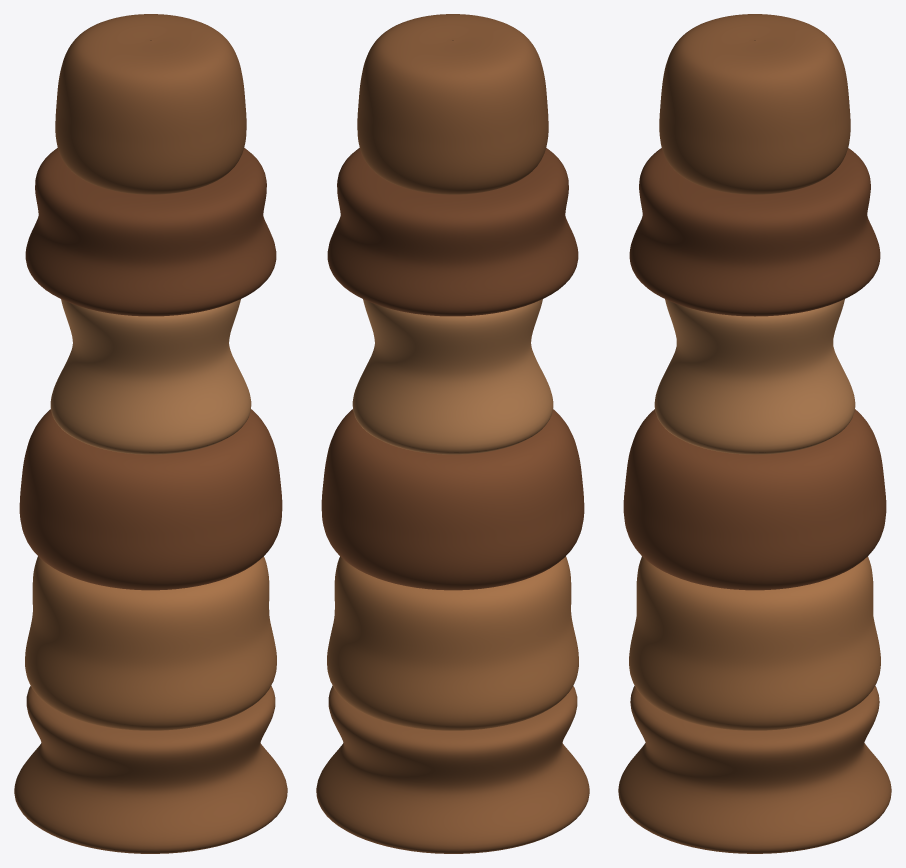
File: sc-wood-totem.glb
3 renders of one model, left to right at view 1: azimuth 30°, elevation 25°; view 2: azimuth 150°, elevation 25°; view 3: azimuth 270°, elevation 25°, orthographic.
Parts seen in each view (by area): view 1: sc_wood_totem; view 2: sc_wood_totem; view 3: sc_wood_totem.
Boxes of the visible parts, bbox=[...] form: sc_wood_totem: bbox=[14, 14, 287, 853]; sc_wood_totem: bbox=[316, 14, 589, 853]; sc_wood_totem: bbox=[618, 14, 891, 853].
Size of the model in its own units: 0.308 by 0.95 by 0.308.
